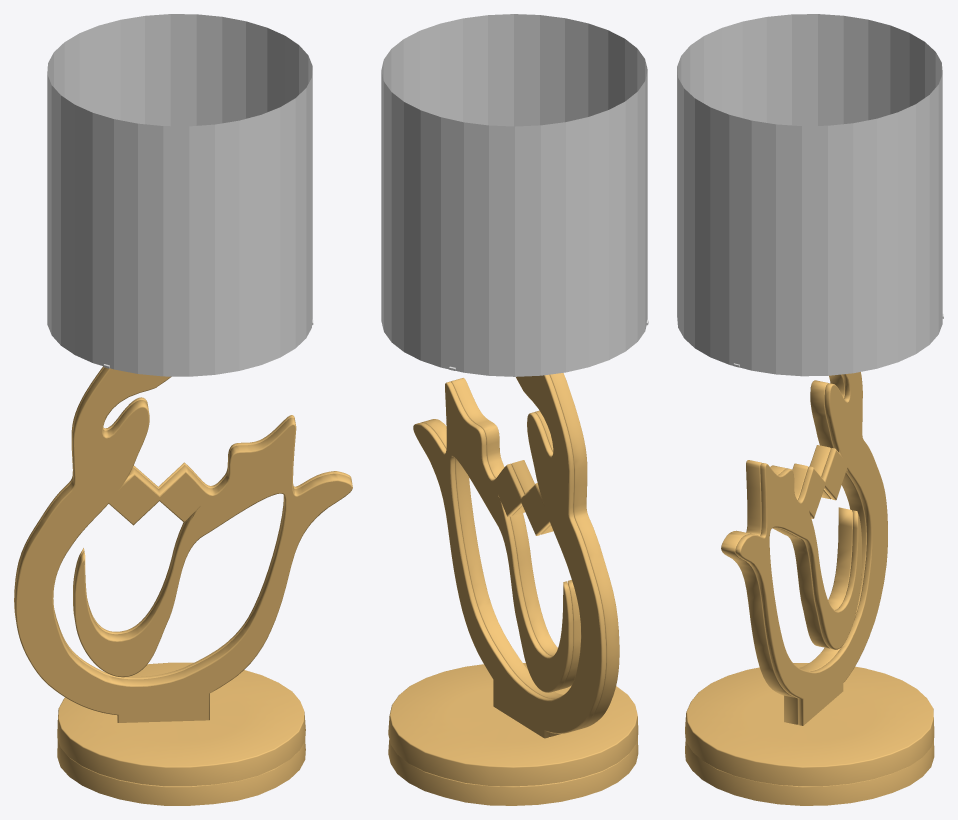
The model's file is MariamLamp.fbx.
The picture shows the model from 3 angles, left to right: view 1: azimuth 30°, elevation 25°; view 2: azimuth 150°, elevation 25°; view 3: azimuth 270°, elevation 25°; orthographic projection.
Visible parts, largest first — view 1: Inside Cover Lamp.002, Mariam Thick, Base.001, Mariam slim; view 2: Inside Cover Lamp.002, Mariam slim, Base.001, Mariam Thick; view 3: Inside Cover Lamp.002, Base.001, Mariam slim, Mariam Thick.
Part boxes in pixels (x1,y1,x2,y2): Inside Cover Lamp.002: [47, 14, 312, 376]; Mariam Thick: [14, 367, 352, 722]; Base.001: [57, 662, 305, 805]; Mariam slim: [14, 366, 351, 679]; Inside Cover Lamp.002: [381, 14, 647, 376]; Mariam slim: [413, 374, 606, 738]; Base.001: [388, 663, 638, 805]; Mariam Thick: [421, 373, 619, 736]; Inside Cover Lamp.002: [677, 14, 942, 376]; Base.001: [685, 663, 934, 805]; Mariam slim: [735, 372, 887, 725]; Mariam Thick: [721, 374, 866, 724].
Size of the model in its own units: 196 by 473 by 168.
